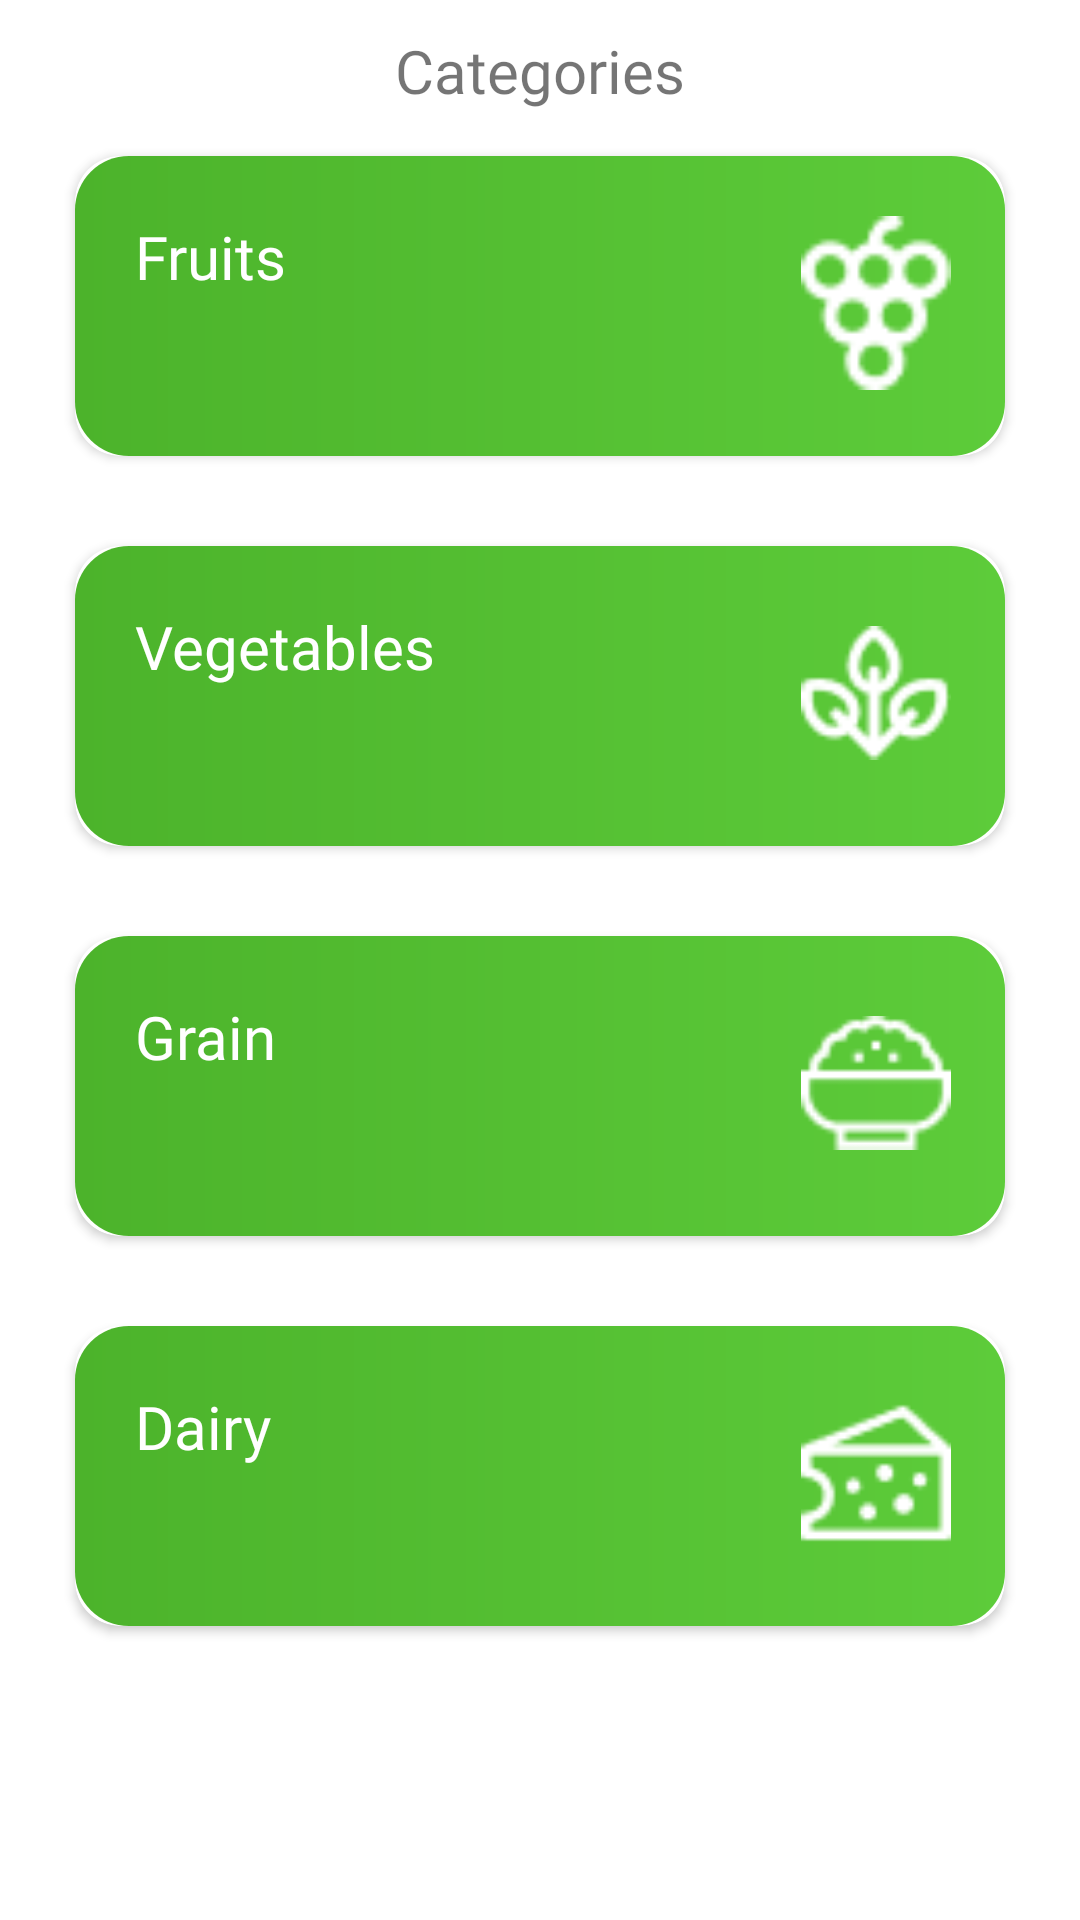

Icons on this 1080*1920 Android screen, each with the point to tap as (x=x, y=y):
dairy: (x=876, y=1473)
fruit: (x=876, y=303)
grain: (x=876, y=1083)
vegetables: (x=875, y=693)
